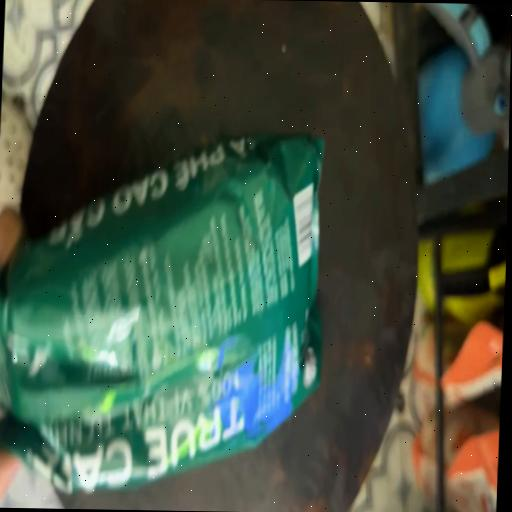cafe_xay: (0, 134, 323, 492)
